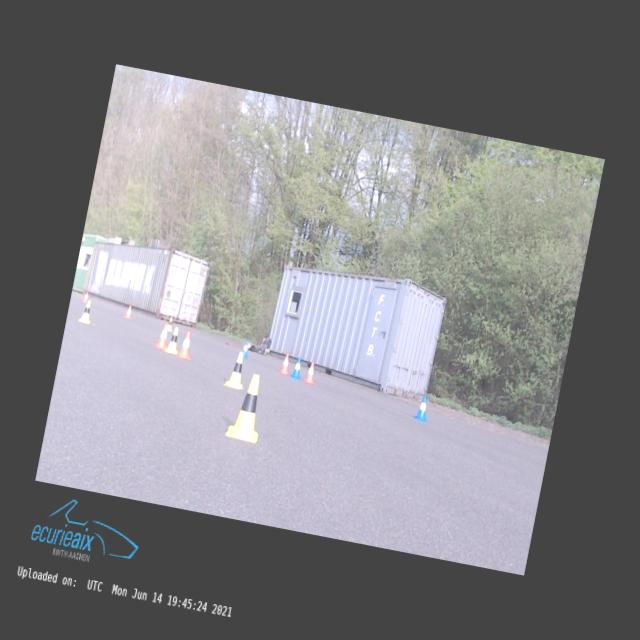blue_cone: (414, 395, 431, 421), (290, 356, 304, 379), (242, 341, 250, 358)
orange_cone: (178, 330, 196, 360), (154, 322, 170, 350), (304, 361, 318, 384), (278, 352, 292, 374), (124, 304, 132, 318), (82, 291, 90, 303)
yellow_cone: (225, 371, 269, 444), (223, 350, 250, 390), (165, 326, 182, 354), (79, 299, 95, 324), (167, 316, 174, 332)
